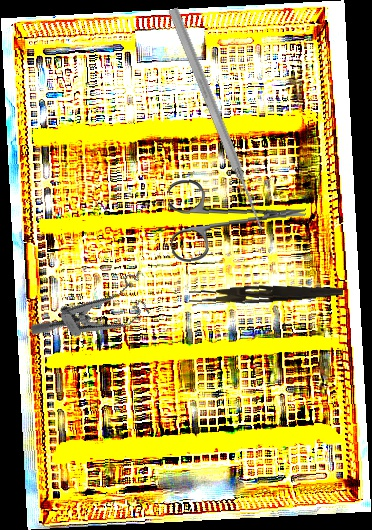Dressing Forceps: (188, 279, 344, 309)
Iris Scissors: (167, 173, 309, 264)
Pusher: (165, 6, 269, 233)
Speculum: (27, 261, 162, 373)
